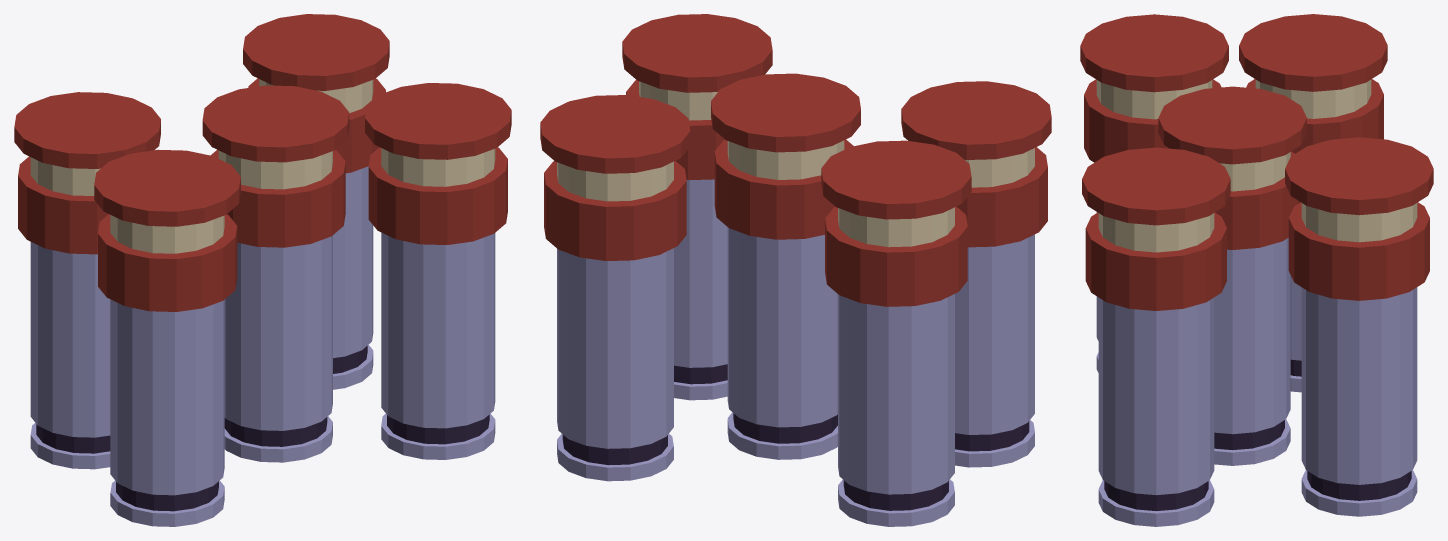
File: shotgunAmmo.fbx
The picture shows the model from 3 angles, left to right: view 1: azimuth 30°, elevation 25°; view 2: azimuth 150°, elevation 25°; view 3: azimuth 270°, elevation 25°; orthographic projection. The views are drawn at different scales.
Visible parts, largest first — view 1: Cylinder.004, Cylinder.002, Cylinder, Cylinder.003, Cylinder.001; view 2: Cylinder.001, Cylinder.003, Cylinder, Cylinder.004, Cylinder.002; view 3: Cylinder.002, Cylinder.001, Cylinder, Cylinder.003, Cylinder.004.
Boxes of the visible parts, x1,y1,x2,y2 form: Cylinder.004: (94, 149, 240, 526); Cylinder.002: (365, 83, 511, 459); Cylinder: (202, 85, 349, 462); Cylinder.003: (14, 92, 160, 469); Cylinder.001: (243, 14, 389, 389); Cylinder.001: (540, 95, 690, 481); Cylinder.003: (821, 140, 971, 526); Cylinder: (711, 73, 860, 459); Cylinder.004: (901, 81, 1051, 467); Cylinder.002: (622, 14, 772, 400); Cylinder.002: (1082, 147, 1230, 526); Cylinder.001: (1285, 137, 1433, 516); Cylinder: (1158, 86, 1306, 465); Cylinder.003: (1239, 14, 1387, 392); Cylinder.004: (1080, 14, 1228, 372).
Bounding box in the file's own units: 85.96 × 66.05 × 65.39.
